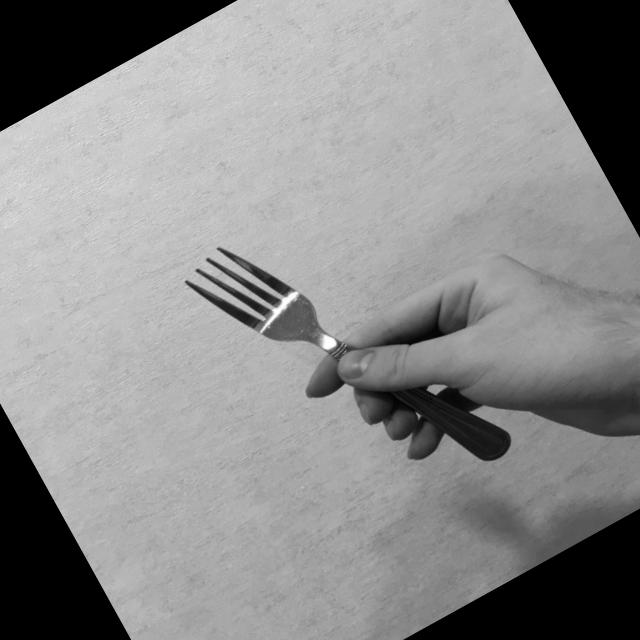fork: (176, 166, 518, 550)
